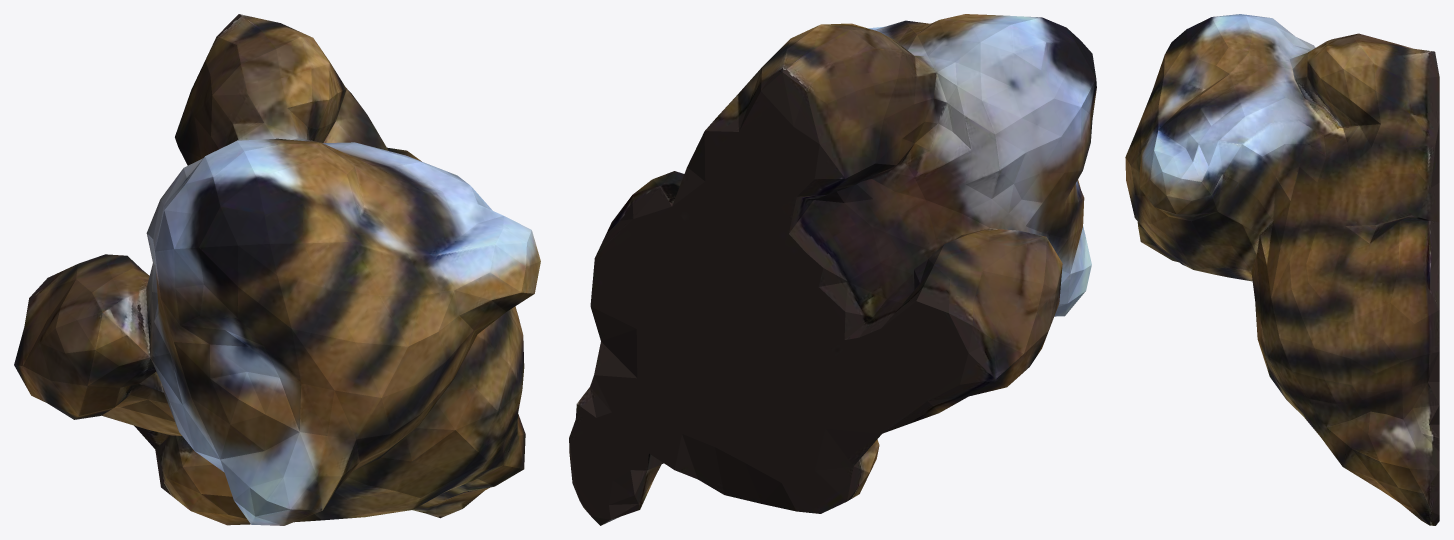
File: tiger.obj
3 views of the same model, side by side, from view 1: azimuth 30°, elevation 25°; view 2: azimuth 150°, elevation 25°; view 3: azimuth 270°, elevation 25° (orthographic). The views are drawn at different scales.
Bounding box in the file's own units: 18.17 × 20.17 × 13.94.
1 material, 1 textured.
